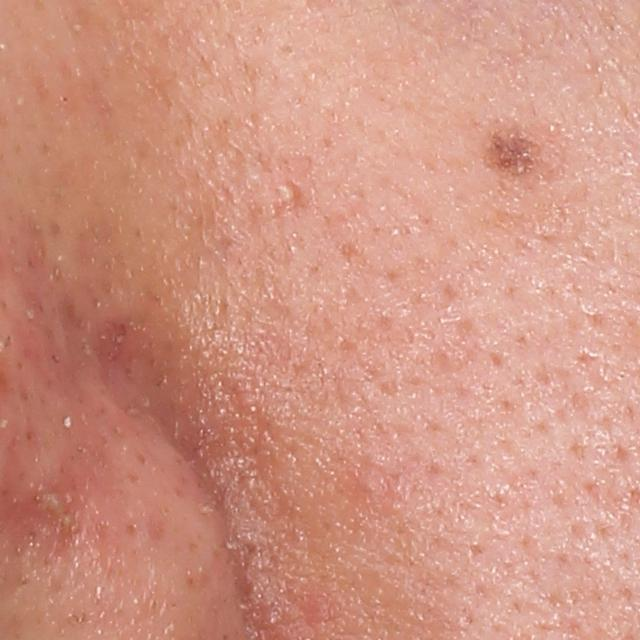nevus: (479, 130, 551, 180)
